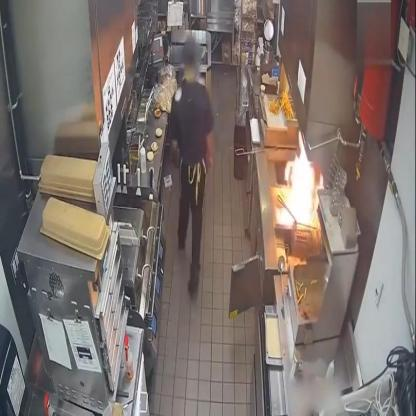fire: (280, 130, 321, 232)
